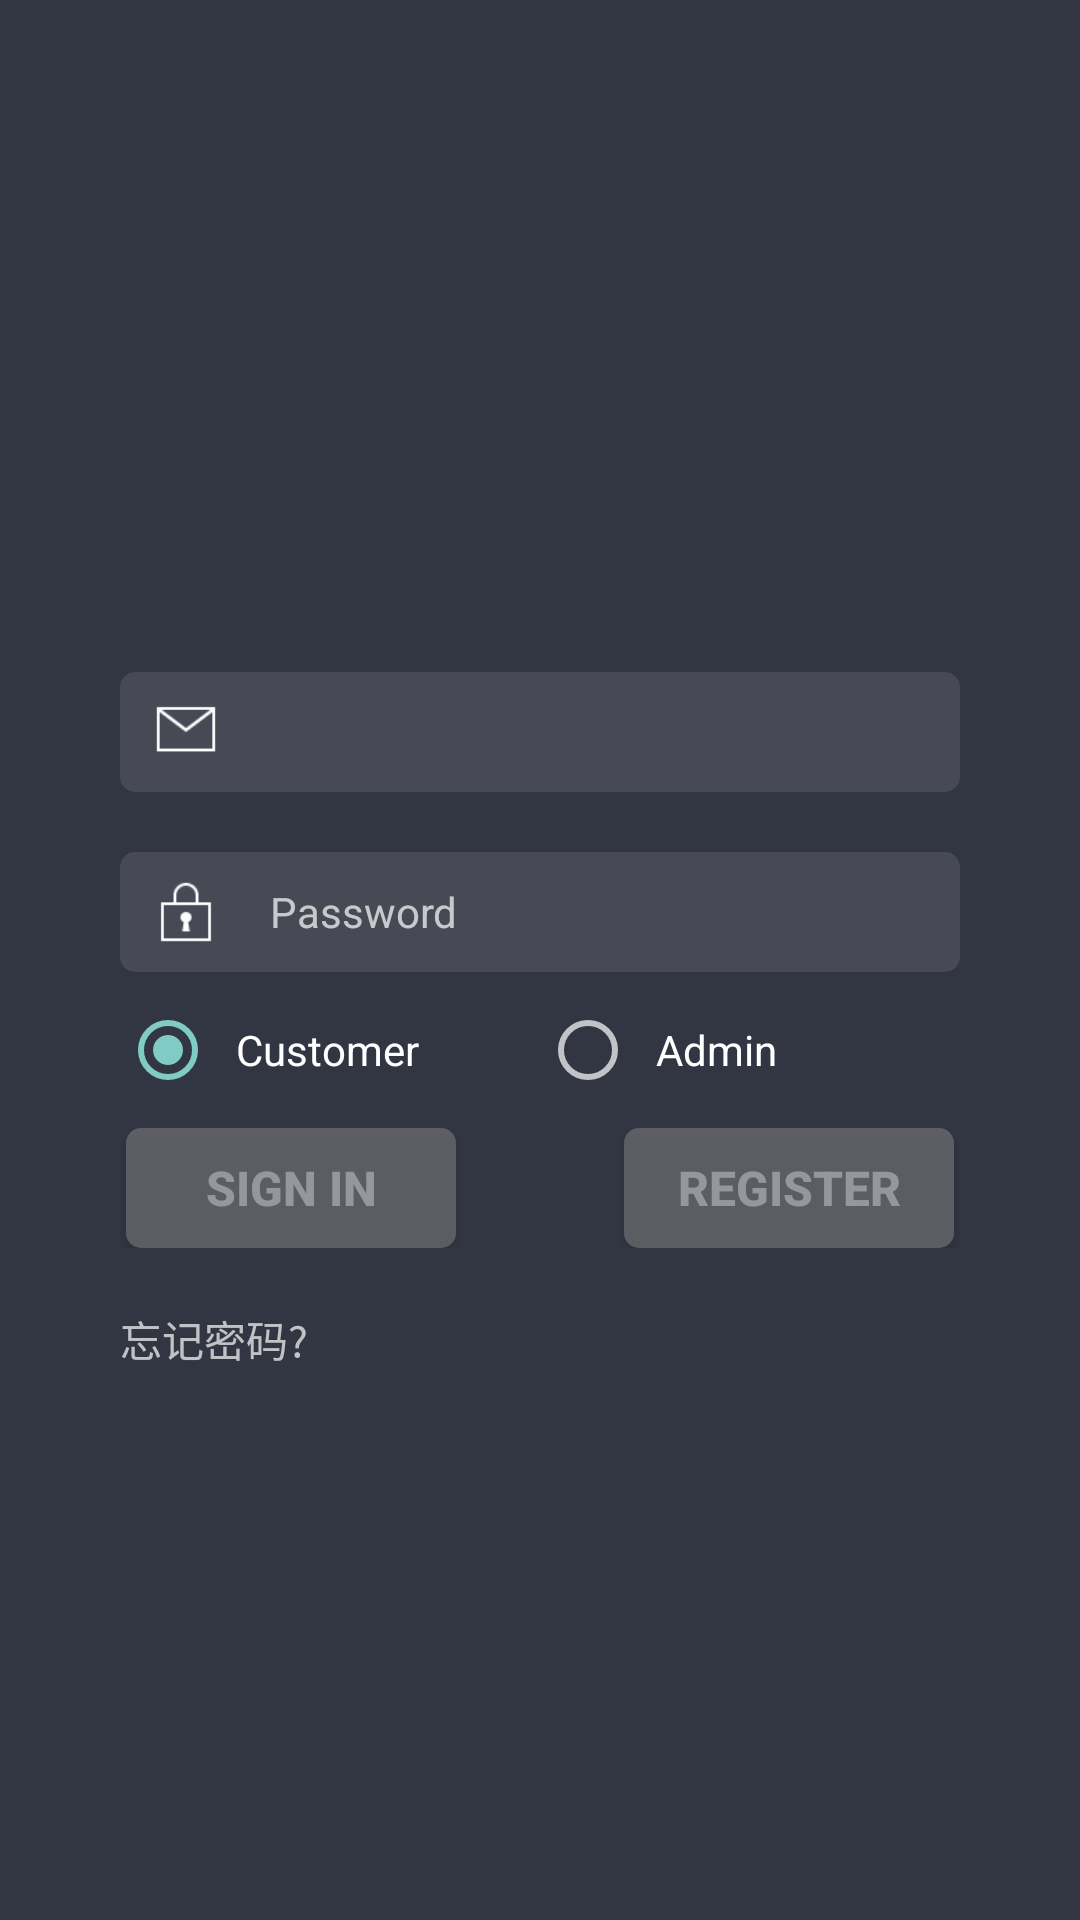

Where icons sit on this 1080 x 1920 app screen, as (x1, y1, x2, y2):
email: (156, 707, 216, 752)
